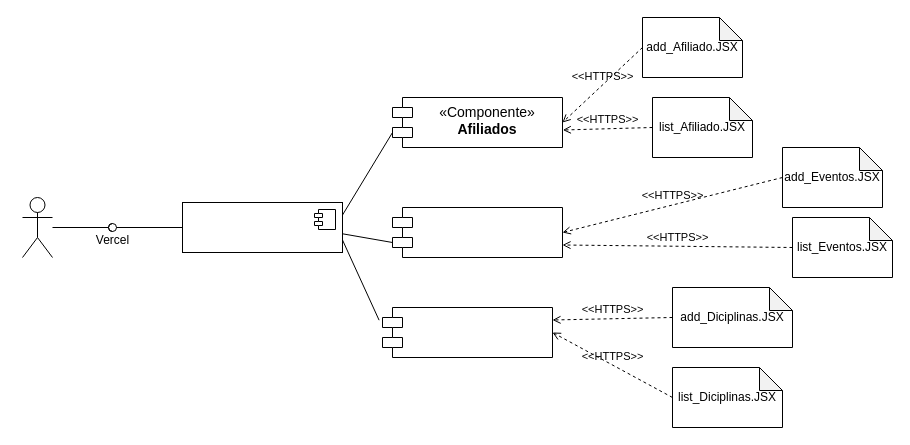
The diagram is 910 pixels wide and 445 high, and some of its shapes have lost their labels. Here are the shapes that lost their labels. From the top down, the centre of each, then its label:
point 37,227: Cliente
point 262,227: «componente» Panel Principal
point 477,232: «Componente» Eventos
point 467,332: «Componente» Disciplinas
